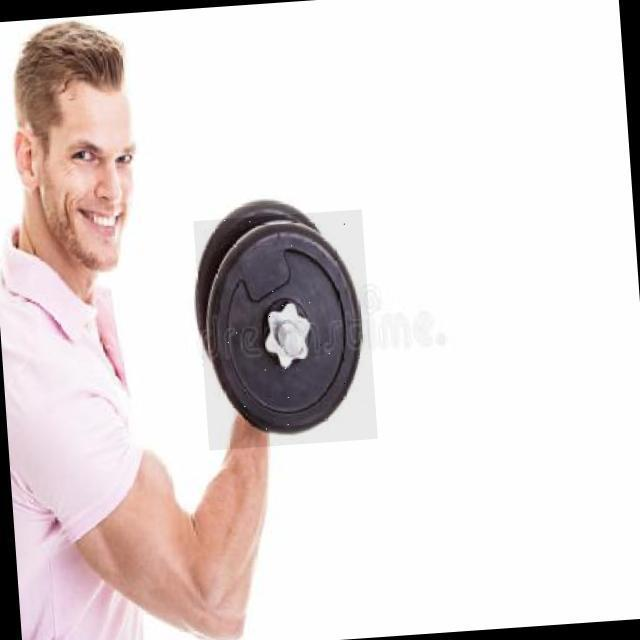barbell: (194, 210, 379, 451)
